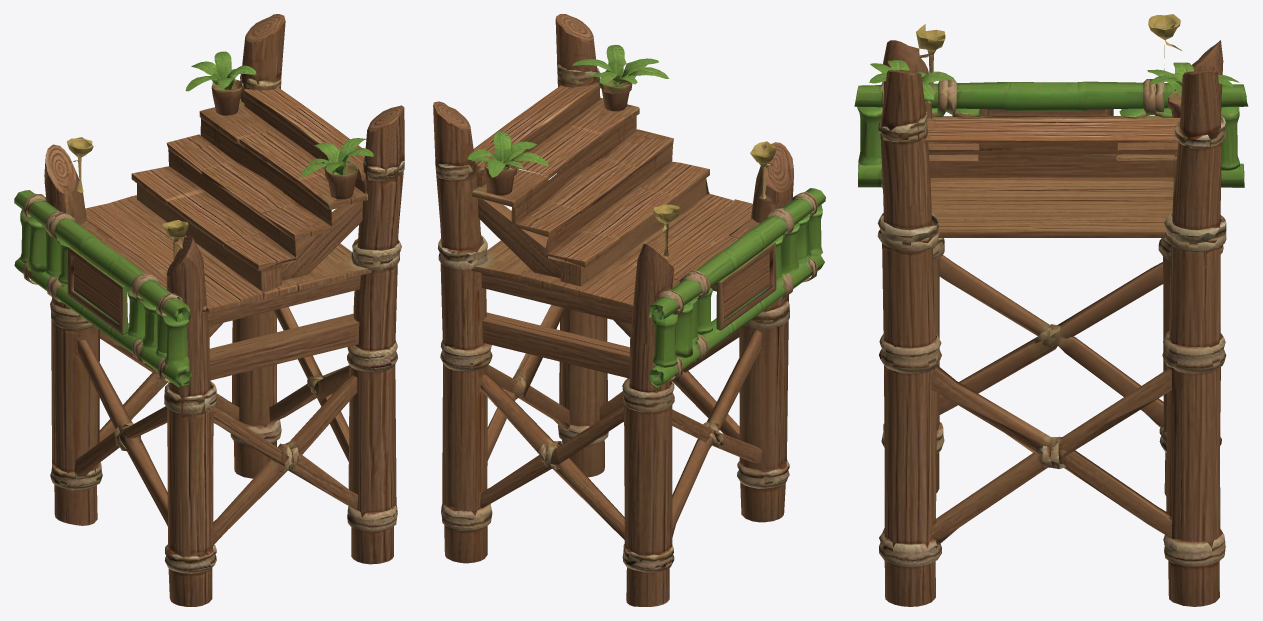
File: playa_palco.glb
3 renders of one model, left to right at view 1: azimuth 30°, elevation 25°; view 2: azimuth 150°, elevation 25°; view 3: azimuth 270°, elevation 25°, orthographic. The views are drawn at different scales.
Visible parts, largest first — view 1: tripo_node_5a106a79-4b20-4ab7-9bab-bd5c3c1f3db2; view 2: tripo_node_5a106a79-4b20-4ab7-9bab-bd5c3c1f3db2; view 3: tripo_node_5a106a79-4b20-4ab7-9bab-bd5c3c1f3db2.
Part boxes in pixels (box(x1,y1,x2,y2)): tripo_node_5a106a79-4b20-4ab7-9bab-bd5c3c1f3db2: box(14, 14, 404, 606); tripo_node_5a106a79-4b20-4ab7-9bab-bd5c3c1f3db2: box(433, 14, 825, 606); tripo_node_5a106a79-4b20-4ab7-9bab-bd5c3c1f3db2: box(854, 14, 1248, 606).
Size of the model in its own units: 0.5964 by 0.9969 by 0.6538.
1 material, 1 textured.
